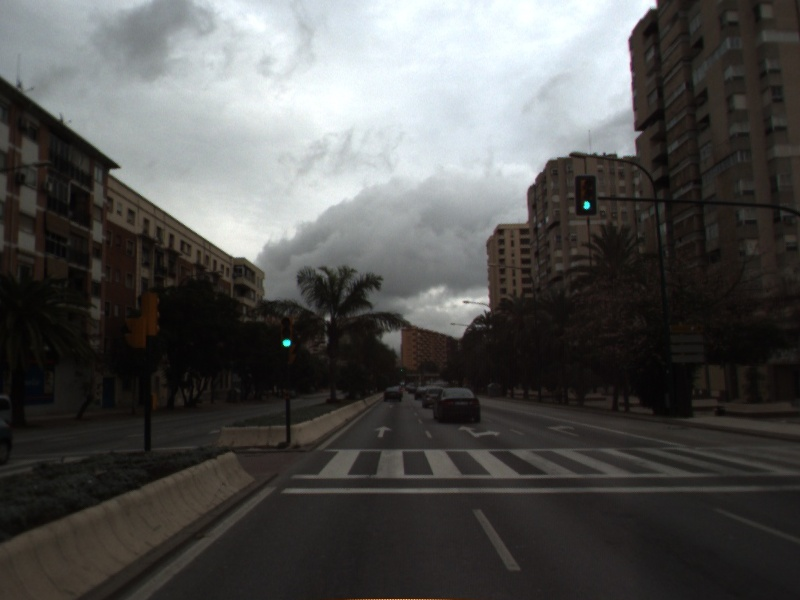RIGHT: (544, 422, 582, 439)
STRAIGHT: (372, 423, 394, 439)
STRAIGHT_RIGHT: (456, 424, 503, 440)
